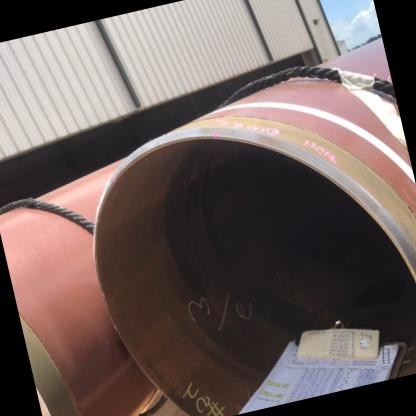Bevel: (178, 136, 188, 145)
